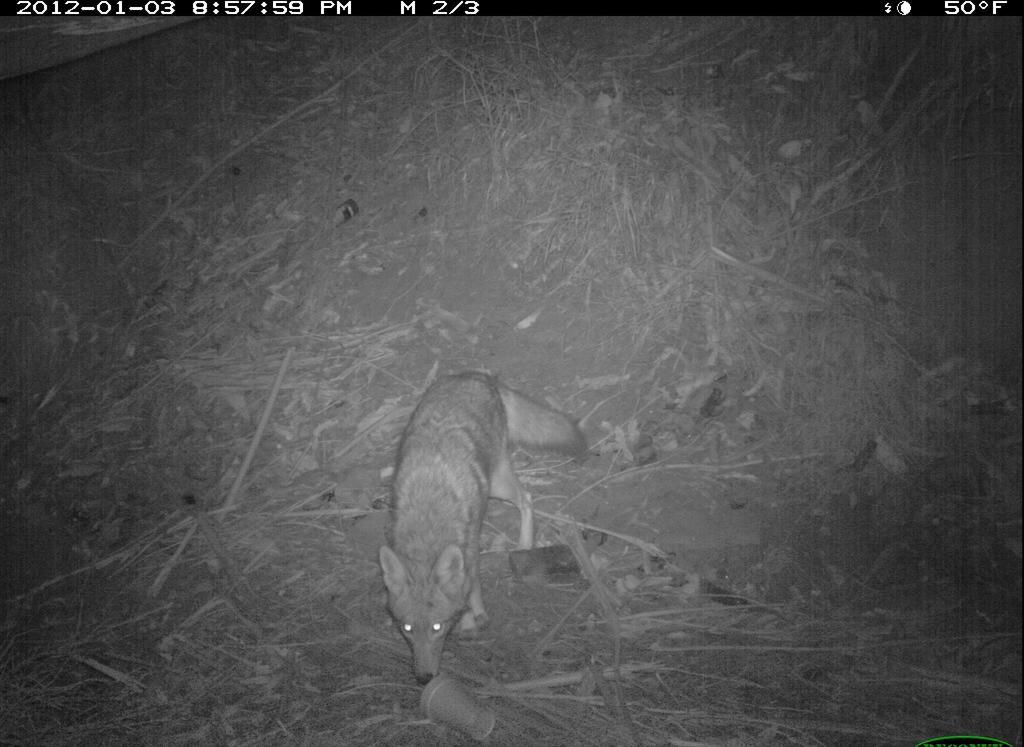coyote: (354, 359, 580, 698)
